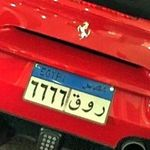carpl: (24, 65, 121, 115)
